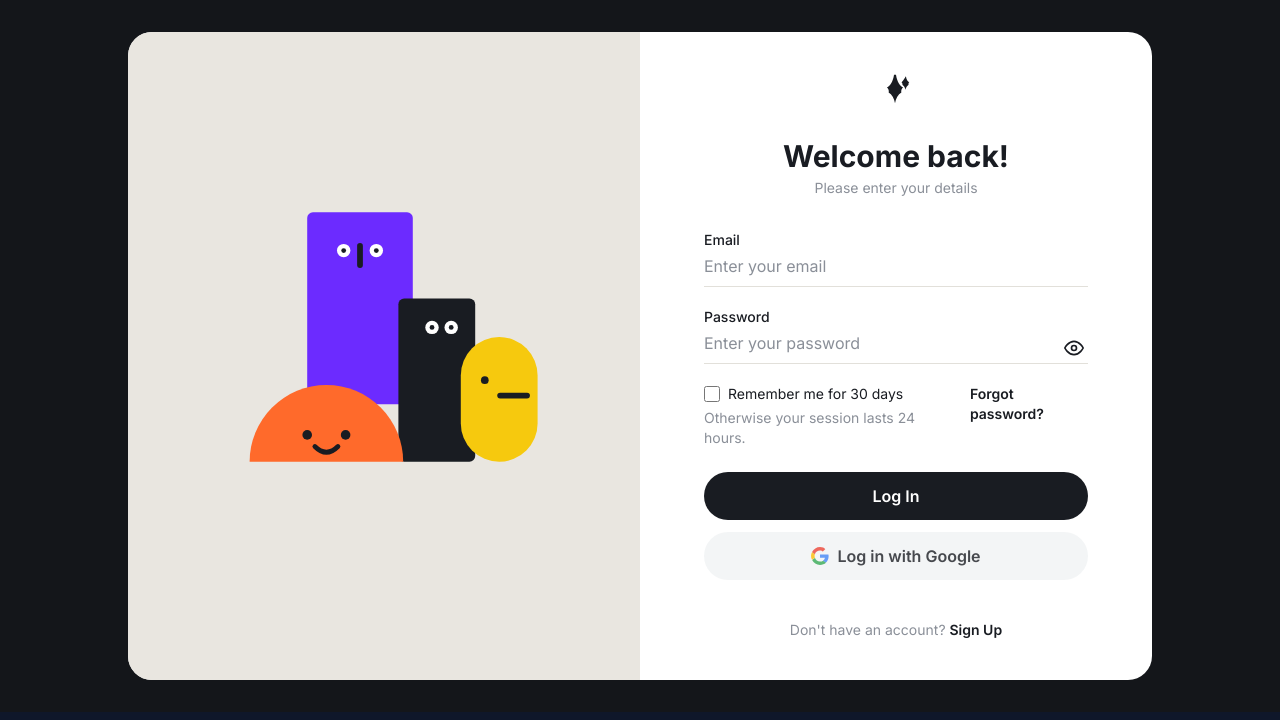
Test: LoginPage validation › shows both required errors and makes no request on empty submit
Click the button "Log In".
click(896, 496)  # box [704,472,1088,520]
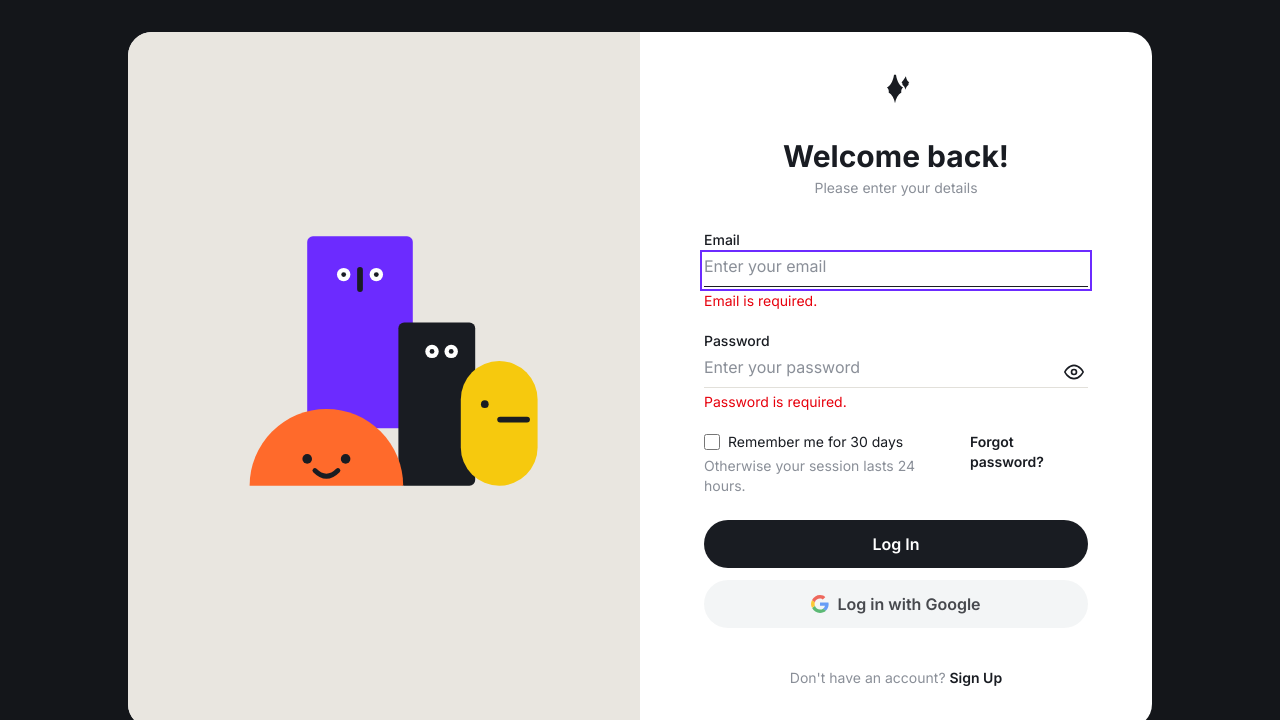
Now the text "Email is required." is shown, box [704,292,817,309]
Now the text "Password is required." is shown, box [704,393,847,410]
